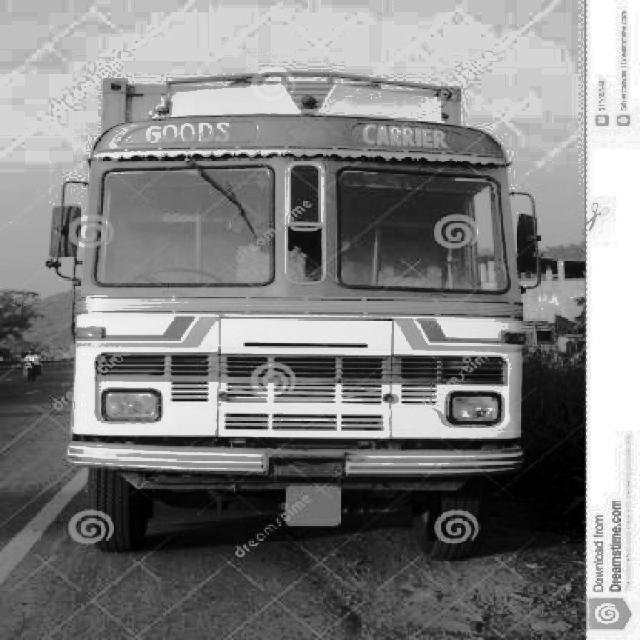HCV: (86, 86, 532, 537)
